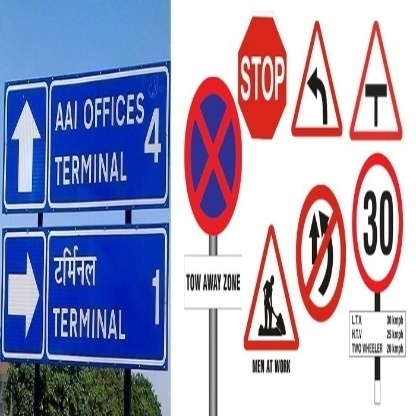stop: (236, 13, 288, 140)
